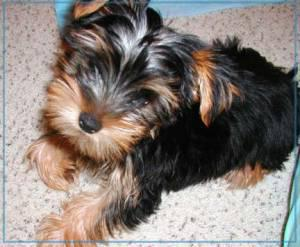dog-yorkshire_terrier: (49, 0, 231, 153)
